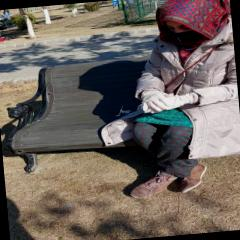gloved: (146, 94, 191, 111), (140, 90, 173, 108)
